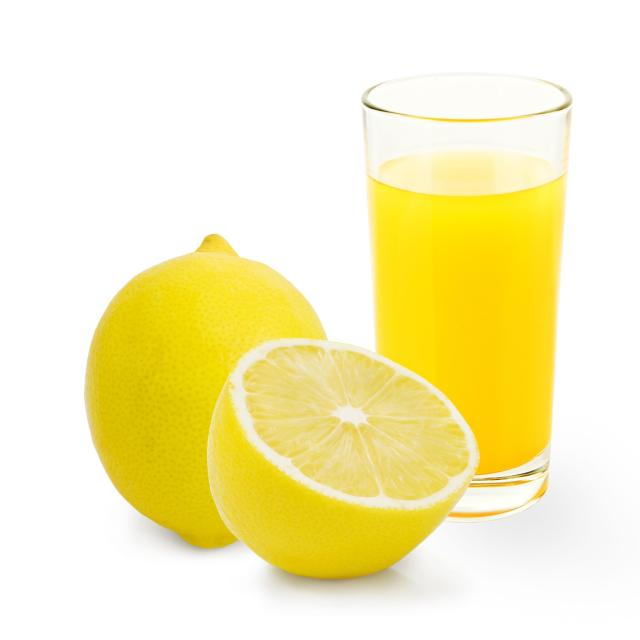lemon: (200, 336, 485, 583)
